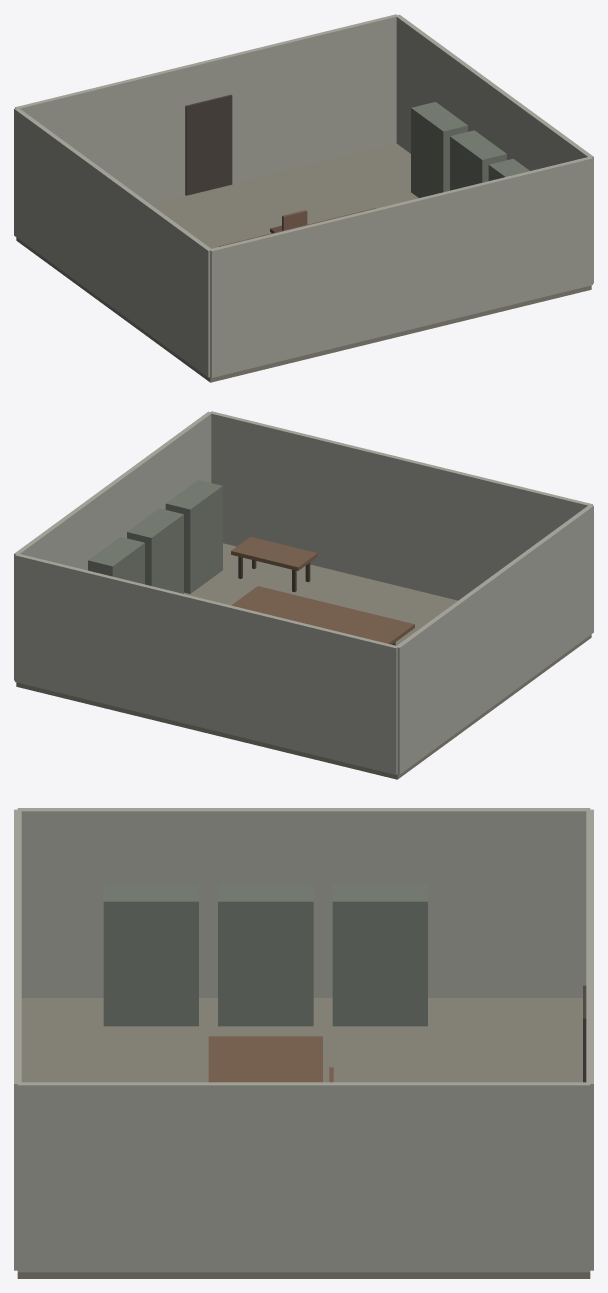
Rendered from archivoConsulta.obj.
3 renders of one model, top to bottom at view 1: azimuth 30°, elevation 25°; view 2: azimuth 150°, elevation 25°; view 3: azimuth 270°, elevation 25°, orthographic. The views are drawn at different scales.
Parts seen in each view (by area): view 1: Pared_de_fondo, Pared_lateral, Muro_de_entrada, Suelo, Archivo_de_planos, Puerta_RECEPCIÓN; view 2: Muro_de_entrada, Pared_de_fondo, Pared_lateral, Suelo, Archivo_de_planos, Mesa_de_consulta; view 3: Pared_lateral, Archivo_de_planos, Suelo, Mesa_de_consulta, Muro_de_entrada, Pared_de_fondo.
Boxes of the visible parts, left/top/right/bottom form: Pared_de_fondo: left=209, top=157, right=592, bottom=377; Pared_lateral: left=14, top=14, right=593, bottom=377; Muro_de_entrada: left=15, top=14, right=397, bottom=203; Suelo: left=16, top=143, right=591, bottom=382; Archivo_de_planos: left=411, top=102, right=529, bottom=197; Puerta_RECEPCIÓN: left=185, top=94, right=232, bottom=195; Muro_de_entrada: left=15, top=554, right=398, bottom=774; Pared_de_fondo: left=210, top=411, right=592, bottom=600; Pared_lateral: left=14, top=411, right=593, bottom=774; Suelo: left=16, top=543, right=591, bottom=779; Archivo_de_planos: left=88, top=480, right=222, bottom=593; Mesa_de_consulta: left=231, top=537, right=414, bottom=644; Pared_lateral: left=17, top=808, right=590, bottom=1272; Archivo_de_planos: left=103, top=884, right=427, bottom=1026; Suelo: left=17, top=998, right=590, bottom=1278; Mesa_de_consulta: left=208, top=1036, right=322, bottom=1082; Muro_de_entrada: left=586, top=809, right=593, bottom=1270; Pared_de_fondo: left=14, top=809, right=21, bottom=1270.
Size of the model in its own units: 17.2 by 5.64 by 15.2.
